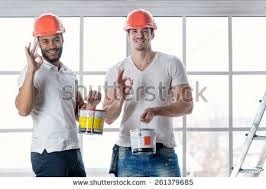helmet: (30, 11, 69, 38), (122, 8, 160, 35)
person with partial safety: (103, 9, 195, 177), (14, 12, 103, 176)
